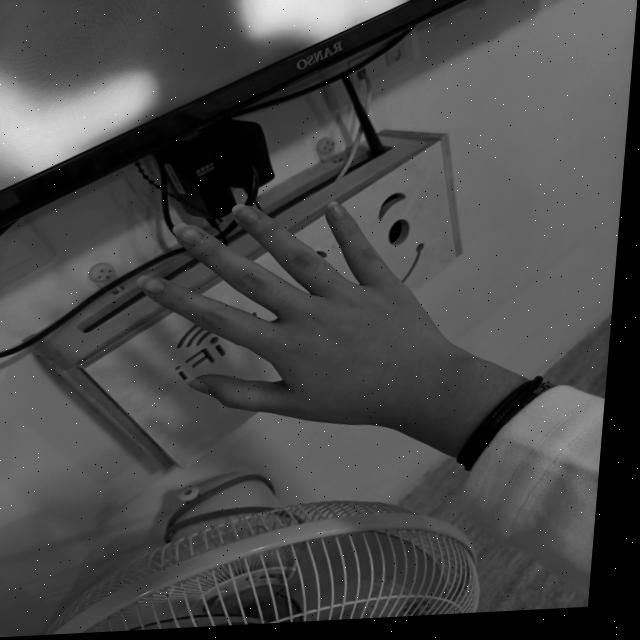hand: (129, 193, 470, 441)
